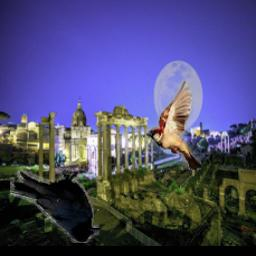Crow: (10, 169, 99, 243)
Sparrow: (148, 81, 202, 171)
